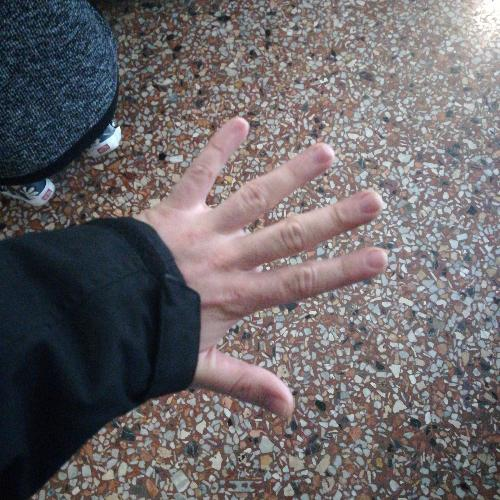paper: (124, 112, 395, 425)
